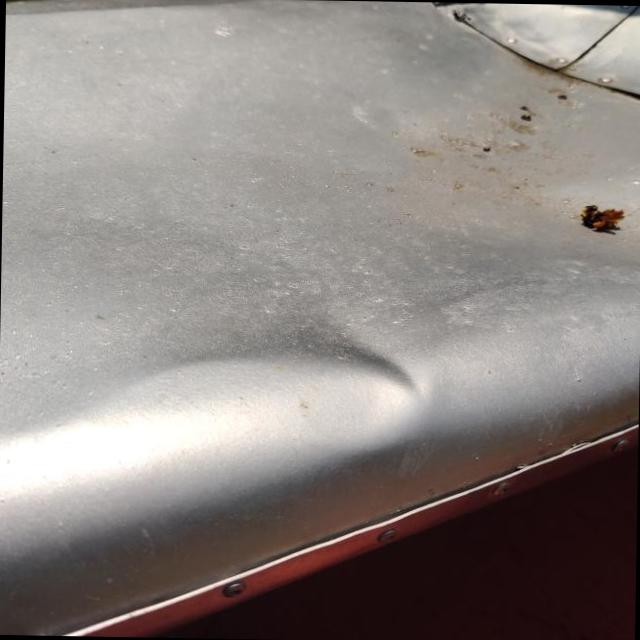Dent: (278, 289, 443, 424)
